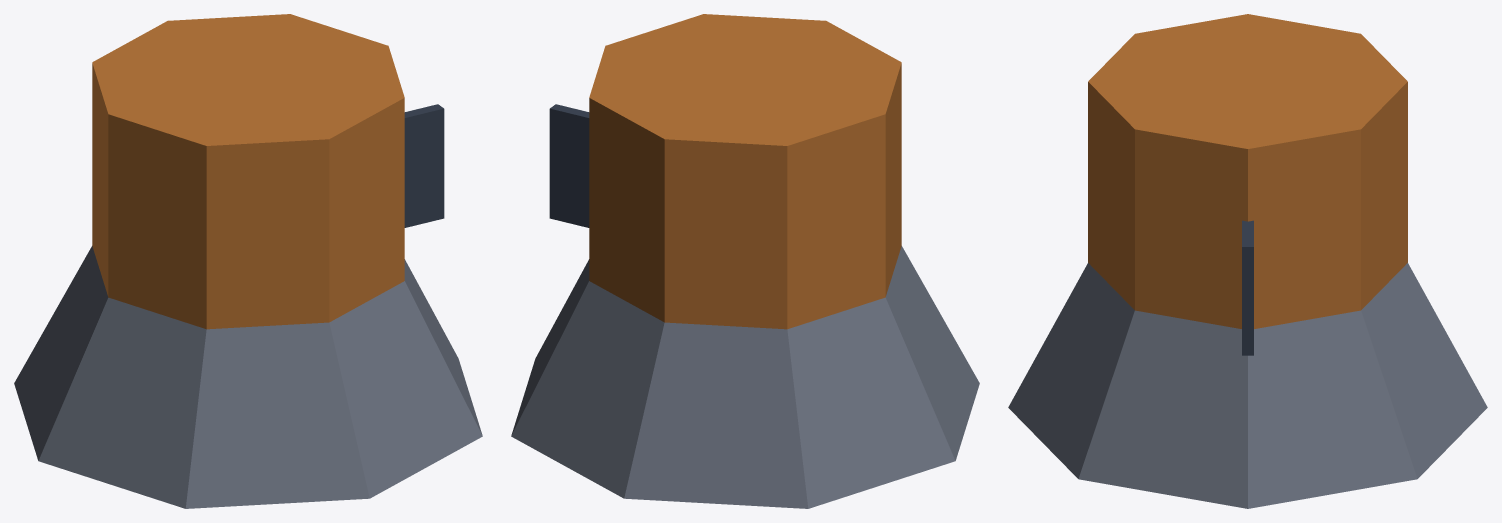
File: rocket_module_engine.glb
3 renders of one model, left to right at view 1: azimuth 30°, elevation 25°; view 2: azimuth 150°, elevation 25°; view 3: azimuth 270°, elevation 25°, orthographic.
Visible parts, largest first — view 1: rocket_module_engine; view 2: rocket_module_engine; view 3: rocket_module_engine.
Boxes of the visible parts, x1,y1,x2,y2 form: rocket_module_engine: (14, 14, 482, 508); rocket_module_engine: (511, 14, 979, 508); rocket_module_engine: (1008, 14, 1487, 508).
Size of the model in its own units: 2.4 by 1.8 by 2.4.
